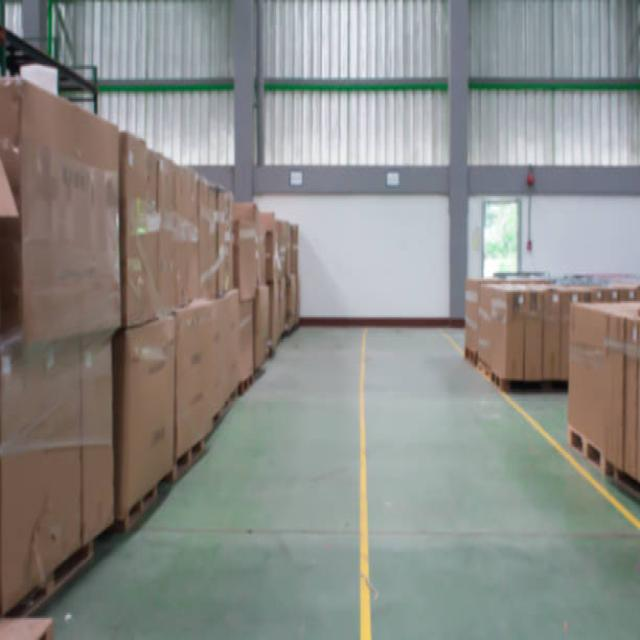Wooden-Pallets: (120, 472, 161, 543)
